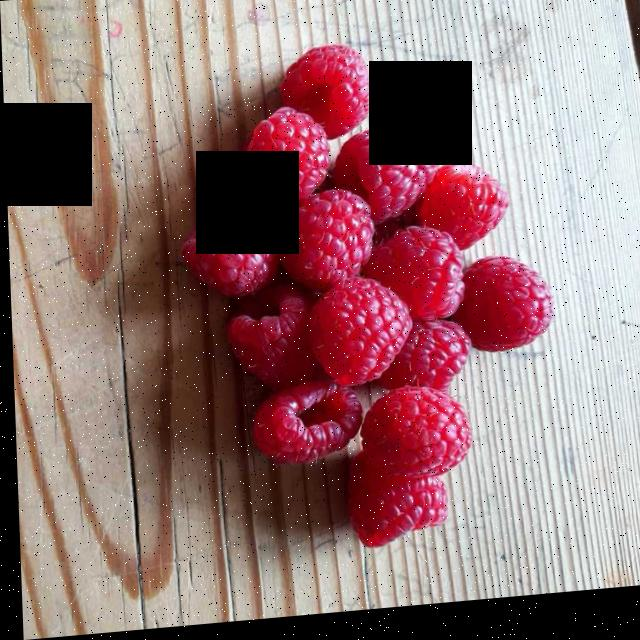raspberries: (186, 51, 541, 535)
